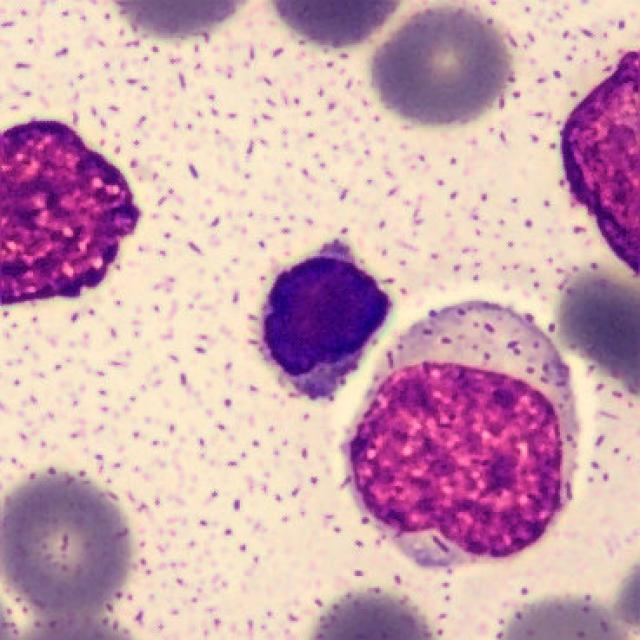Mieloblasto: (346, 303, 581, 571)
